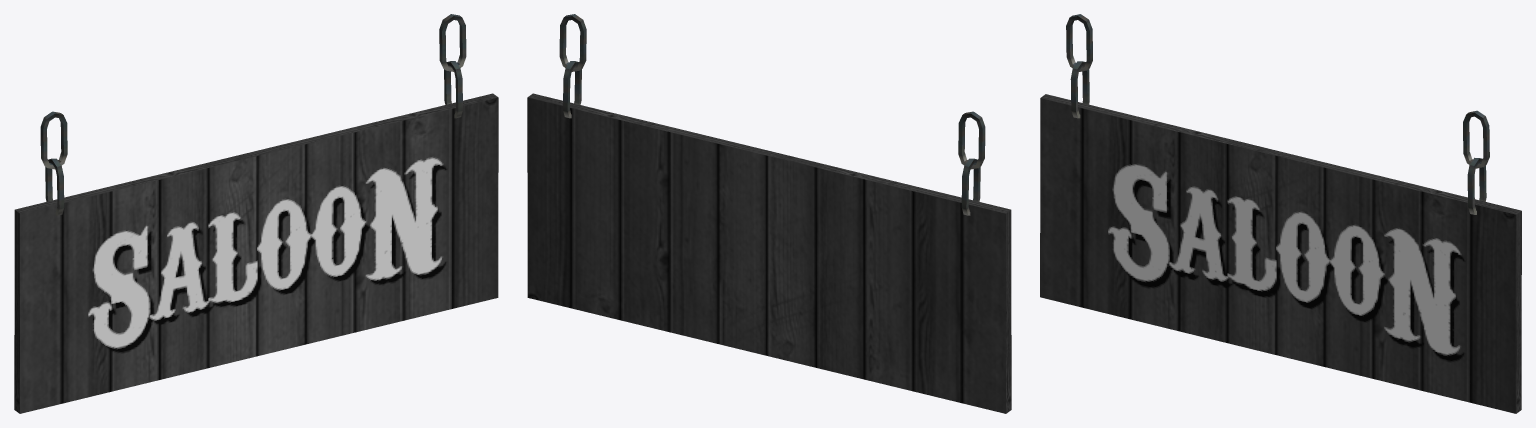
File: signs-05.fbx
3 renders of one model, left to right at view 1: azimuth 30°, elevation 25°; view 2: azimuth 150°, elevation 25°; view 3: azimuth 330°, elevation 25°, orthographic.
Visible parts, largest first — view 1: Cube.188; view 2: Cube.188; view 3: Cube.188.
Part boxes in pixels (x1=…): Cube.188: x1=14, y1=14, x2=498, y2=413; Cube.188: x1=527, y1=14, x2=1011, y2=413; Cube.188: x1=1040, y1=14, x2=1521, y2=413.
Size of the model in its own units: 1.61 by 0.9384 by 0.0806.
